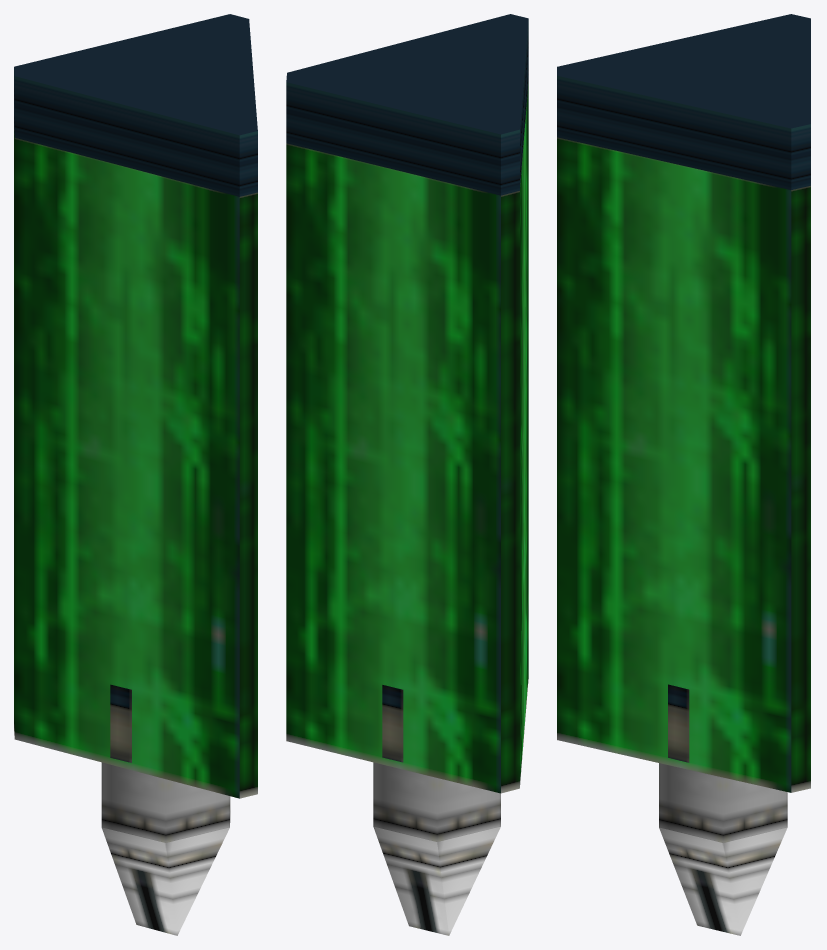
File: ic_euTR2_cpy.ico.obj
The picture shows the model from 3 angles, left to right: view 1: azimuth 30°, elevation 25°; view 2: azimuth 150°, elevation 25°; view 3: azimuth 270°, elevation 25°; orthographic projection.
Bounding box in the file's own units: 0.8589 × 2.99 × 0.8103.
1 material, 1 textured.
